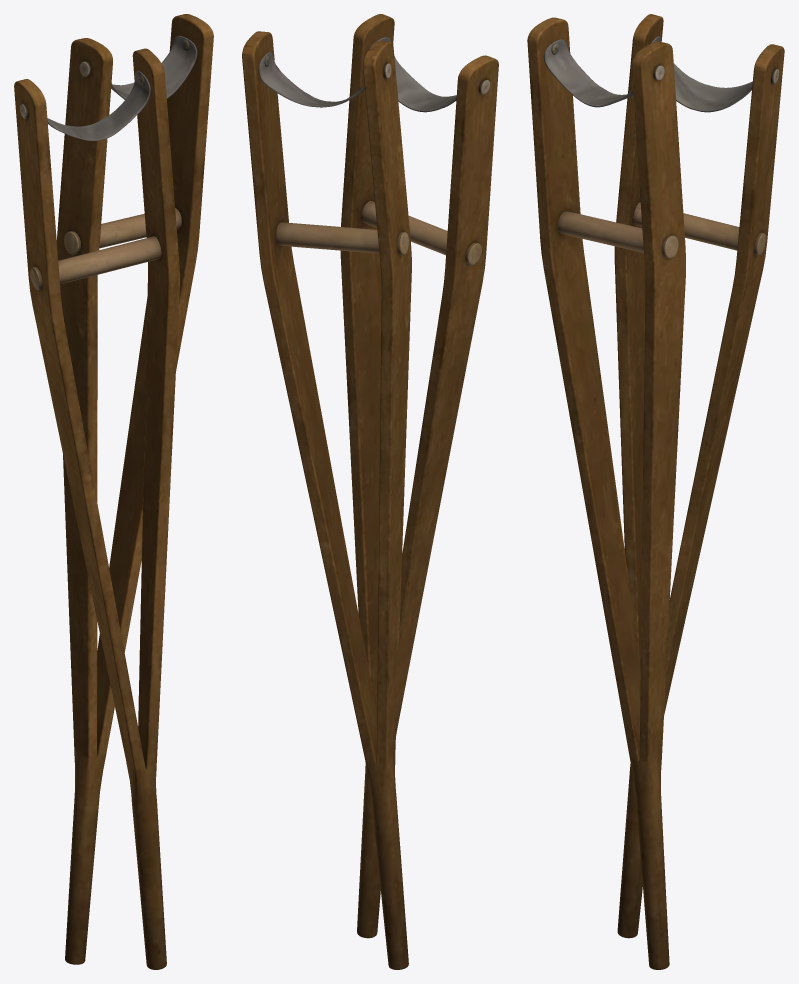
The model's file is vintage_crutches_01.glb.
3 renders of one model, left to right at view 1: azimuth 30°, elevation 25°; view 2: azimuth 150°, elevation 25°; view 3: azimuth 330°, elevation 25°, orthographic.
Parts seen in each view (by area): view 1: vintage_crutches_01_crutch01; view 2: vintage_crutches_01_crutch01; view 3: vintage_crutches_01_crutch01.
Part boxes in pixels (box(x1,y1,x2,y2)): vintage_crutches_01_crutch01: box(14, 14, 213, 969); vintage_crutches_01_crutch01: box(242, 14, 498, 969); vintage_crutches_01_crutch01: box(527, 14, 784, 969).
Bounding box in the file's own units: 0.3837 × 1.6 × 0.2036.
Materials: 1 (1 with a texture image).
